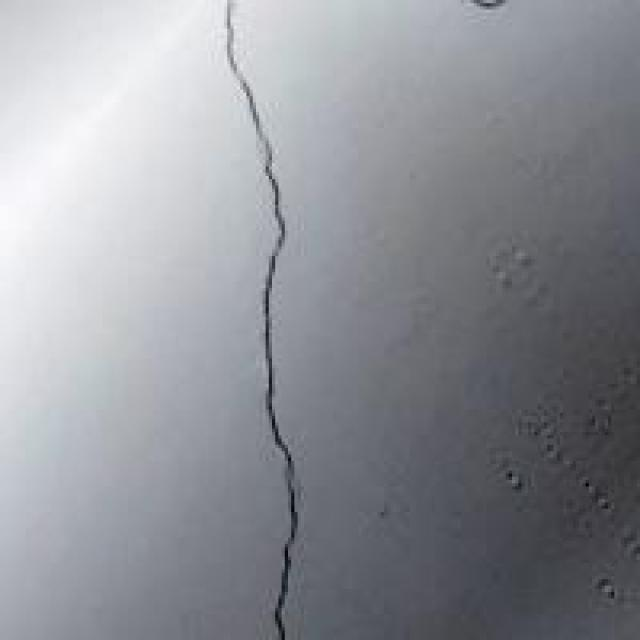crack: (160, 0, 364, 640)
